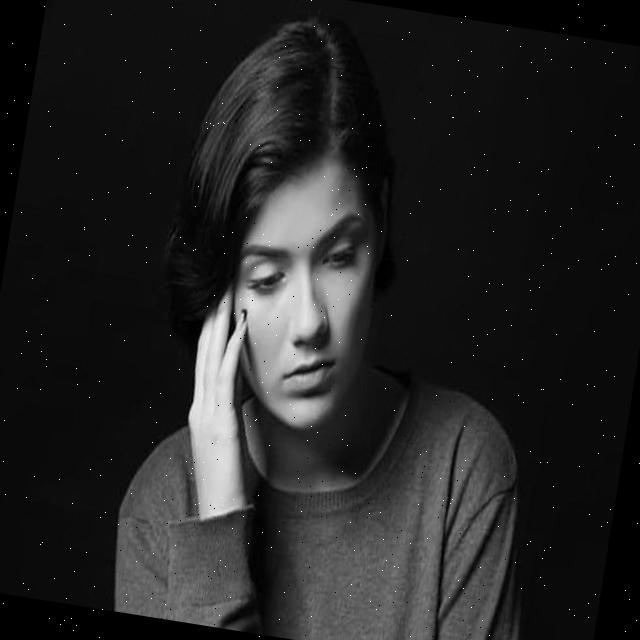Sadness: (214, 157, 388, 435)
